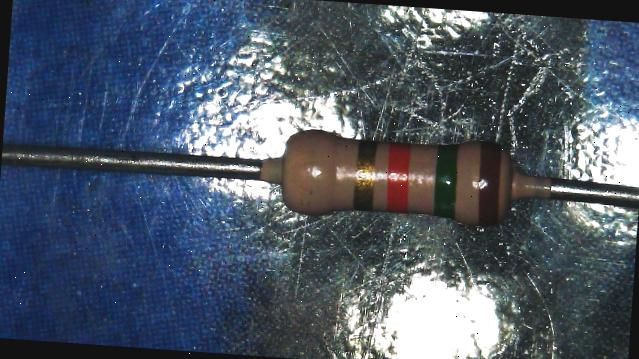brown: (473, 140, 504, 224)
gold: (351, 138, 376, 209)
green: (432, 142, 459, 218)
orange: (384, 140, 409, 210)
resistor: (253, 95, 548, 244)
